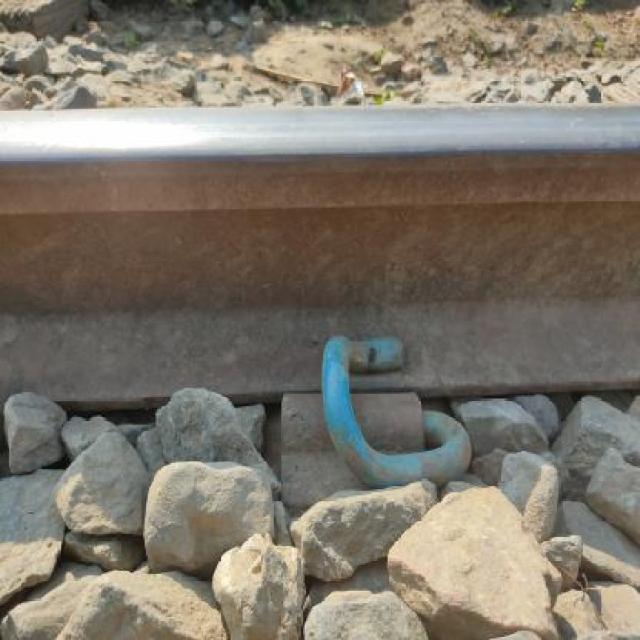non-defective: (0, 51, 640, 494)
